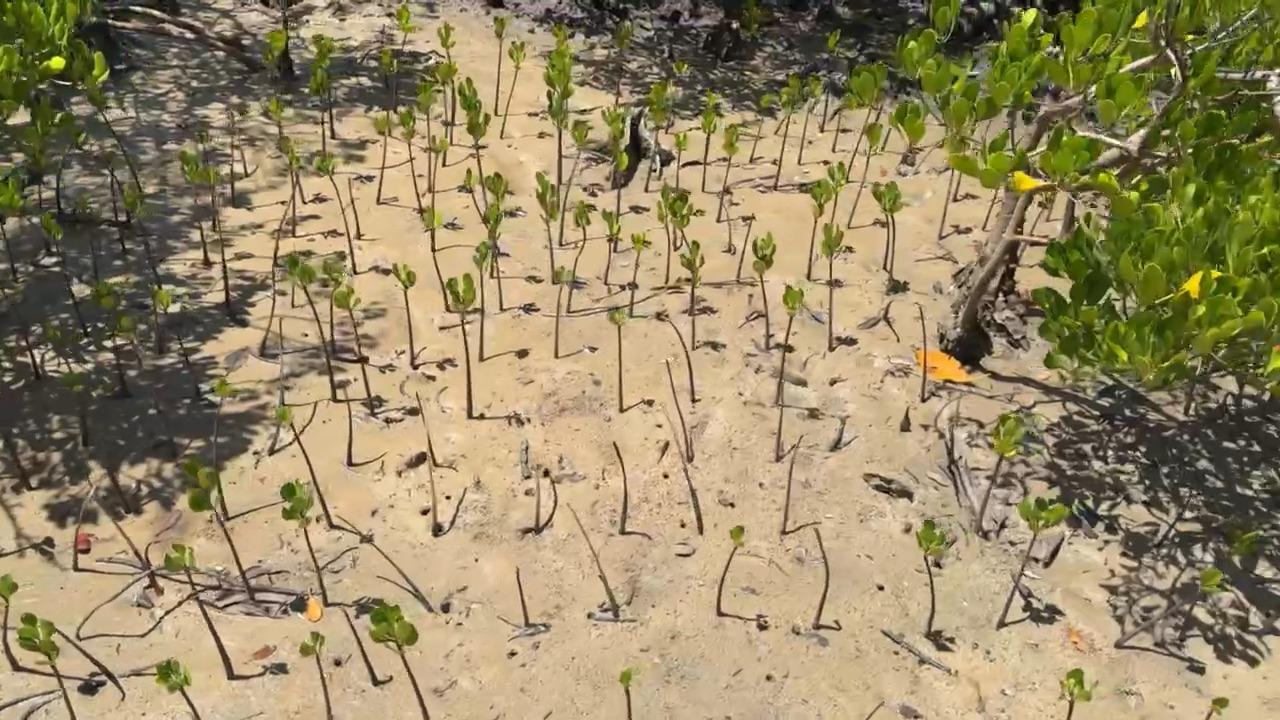Tree: (278, 253, 385, 408), (281, 478, 384, 618), (274, 404, 375, 545), (1115, 569, 1225, 675), (336, 513, 440, 616), (994, 497, 1069, 630), (163, 542, 235, 679), (322, 250, 397, 377), (177, 151, 256, 268), (188, 466, 255, 602), (539, 60, 605, 198), (973, 412, 1041, 533), (35, 615, 128, 701), (266, 313, 318, 457), (313, 34, 379, 146), (391, 264, 459, 372), (481, 170, 544, 284), (368, 605, 430, 720), (567, 201, 629, 316), (420, 207, 483, 313), (775, 284, 824, 419), (17, 614, 75, 720), (72, 485, 138, 576), (569, 504, 621, 618), (534, 172, 584, 288), (430, 58, 481, 168), (916, 519, 957, 654), (258, 267, 320, 356), (313, 153, 357, 278), (751, 232, 796, 354), (500, 40, 556, 138), (156, 288, 205, 397), (419, 86, 468, 195), (44, 218, 90, 334), (606, 103, 651, 220), (457, 78, 494, 219), (819, 222, 858, 353), (378, 49, 432, 136), (774, 78, 815, 191), (447, 272, 478, 421), (847, 121, 890, 227), (340, 605, 394, 686), (715, 121, 757, 224), (124, 183, 164, 288), (552, 266, 597, 359), (805, 177, 843, 287), (204, 379, 233, 522), (99, 279, 135, 393), (612, 441, 653, 540), (782, 435, 822, 535), (274, 154, 310, 265), (205, 164, 233, 304), (25, 102, 60, 211), (111, 520, 162, 594), (100, 107, 143, 194), (628, 233, 670, 322), (700, 90, 736, 191), (425, 452, 466, 538), (57, 115, 91, 217), (644, 83, 675, 193), (417, 392, 459, 473), (277, 138, 331, 201), (819, 30, 852, 133), (344, 387, 387, 466), (882, 182, 912, 295), (558, 31, 598, 115), (813, 526, 843, 633), (684, 274, 724, 350), (155, 656, 202, 720), (715, 525, 748, 616), (436, 22, 459, 150), (301, 631, 334, 720), (675, 435, 704, 536), (666, 360, 695, 460), (72, 187, 102, 281), (656, 183, 683, 287), (665, 320, 697, 403), (472, 241, 493, 362), (828, 160, 856, 250), (938, 168, 973, 239), (747, 93, 781, 165), (63, 369, 93, 450), (845, 106, 875, 185), (606, 306, 627, 415), (917, 303, 940, 402), (796, 95, 828, 166), (0, 573, 23, 670), (682, 239, 712, 311), (484, 207, 503, 317), (1, 430, 34, 493), (491, 15, 511, 117), (871, 179, 893, 269), (1062, 667, 1098, 720), (105, 166, 127, 252), (310, 65, 332, 151), (516, 566, 546, 629), (0, 178, 18, 282), (664, 63, 691, 132), (775, 379, 796, 463), (15, 310, 41, 377), (265, 27, 291, 93), (613, 19, 633, 104), (533, 468, 557, 535), (717, 186, 740, 255), (374, 114, 391, 204), (736, 213, 756, 283), (1231, 528, 1270, 559), (396, 5, 414, 66), (265, 95, 288, 142), (347, 174, 362, 239), (672, 130, 687, 194), (619, 666, 636, 720), (833, 106, 852, 153), (954, 173, 980, 205), (1204, 696, 1229, 720)
